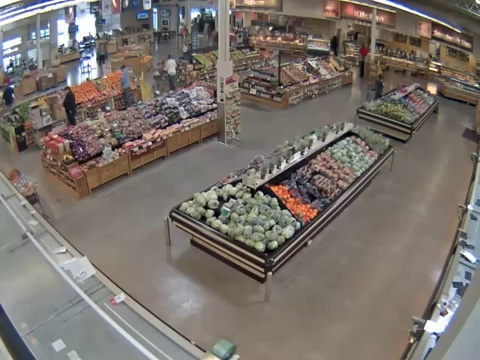face: (12, 175, 20, 182), (64, 88, 69, 94)
